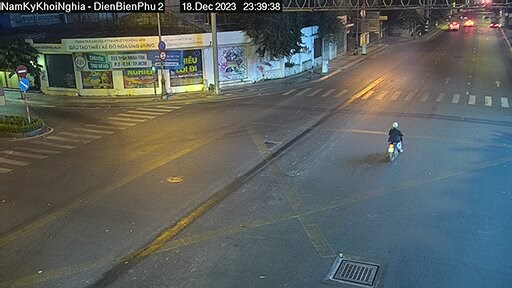motorbike: (371, 118, 412, 162)
